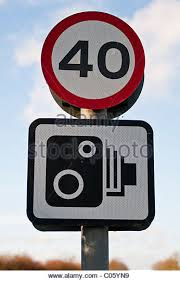Speed_limit_40km: (40, 10, 145, 110)
